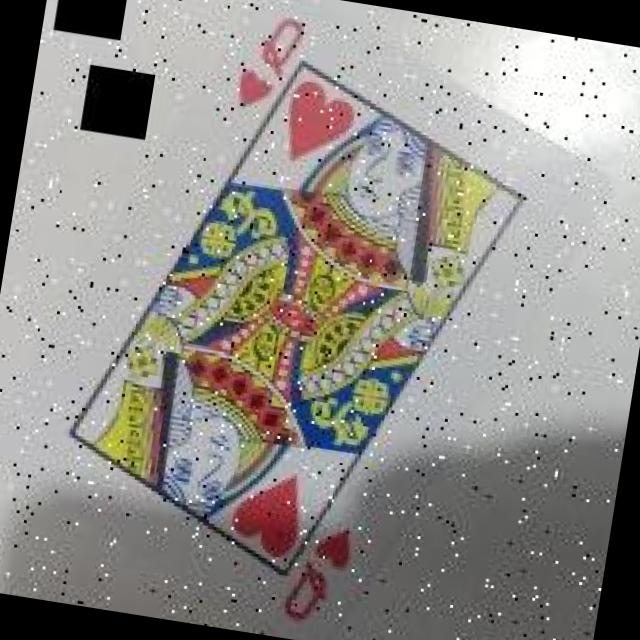Queen of hearts: (22, 0, 624, 640)
